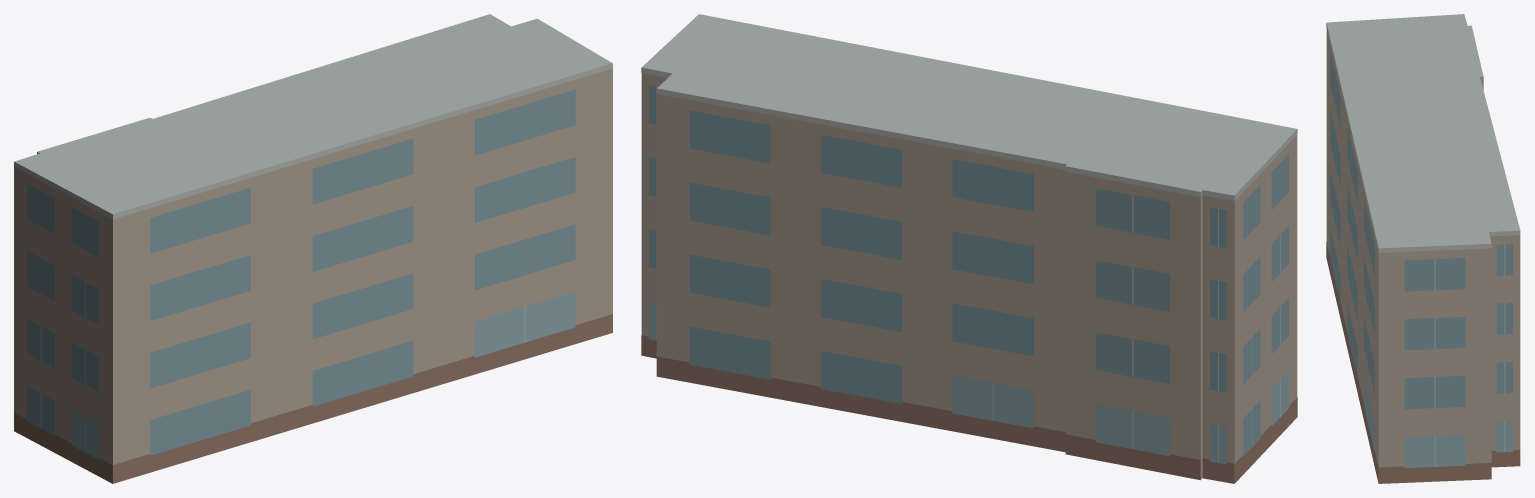
File: survey-upis-32698957.glb
3 renders of one model, left to right at view 1: azimuth 30°, elevation 25°; view 2: azimuth 150°, elevation 25°; view 3: azimuth 270°, elevation 25°, orthographic. The views are drawn at different scales.
Parts seen in each view (by area): view 1: survey-upis-32698957.tmp; view 2: survey-upis-32698957.tmp; view 3: survey-upis-32698957.tmp.
Boxes of the visible parts, left/top/right/bottom form: survey-upis-32698957.tmp: left=14, top=14, right=612, bottom=483; survey-upis-32698957.tmp: left=641, top=14, right=1297, bottom=483; survey-upis-32698957.tmp: left=1326, top=14, right=1520, bottom=483.
Size of the model in its own units: 27.34 by 12.8 by 9.56.
